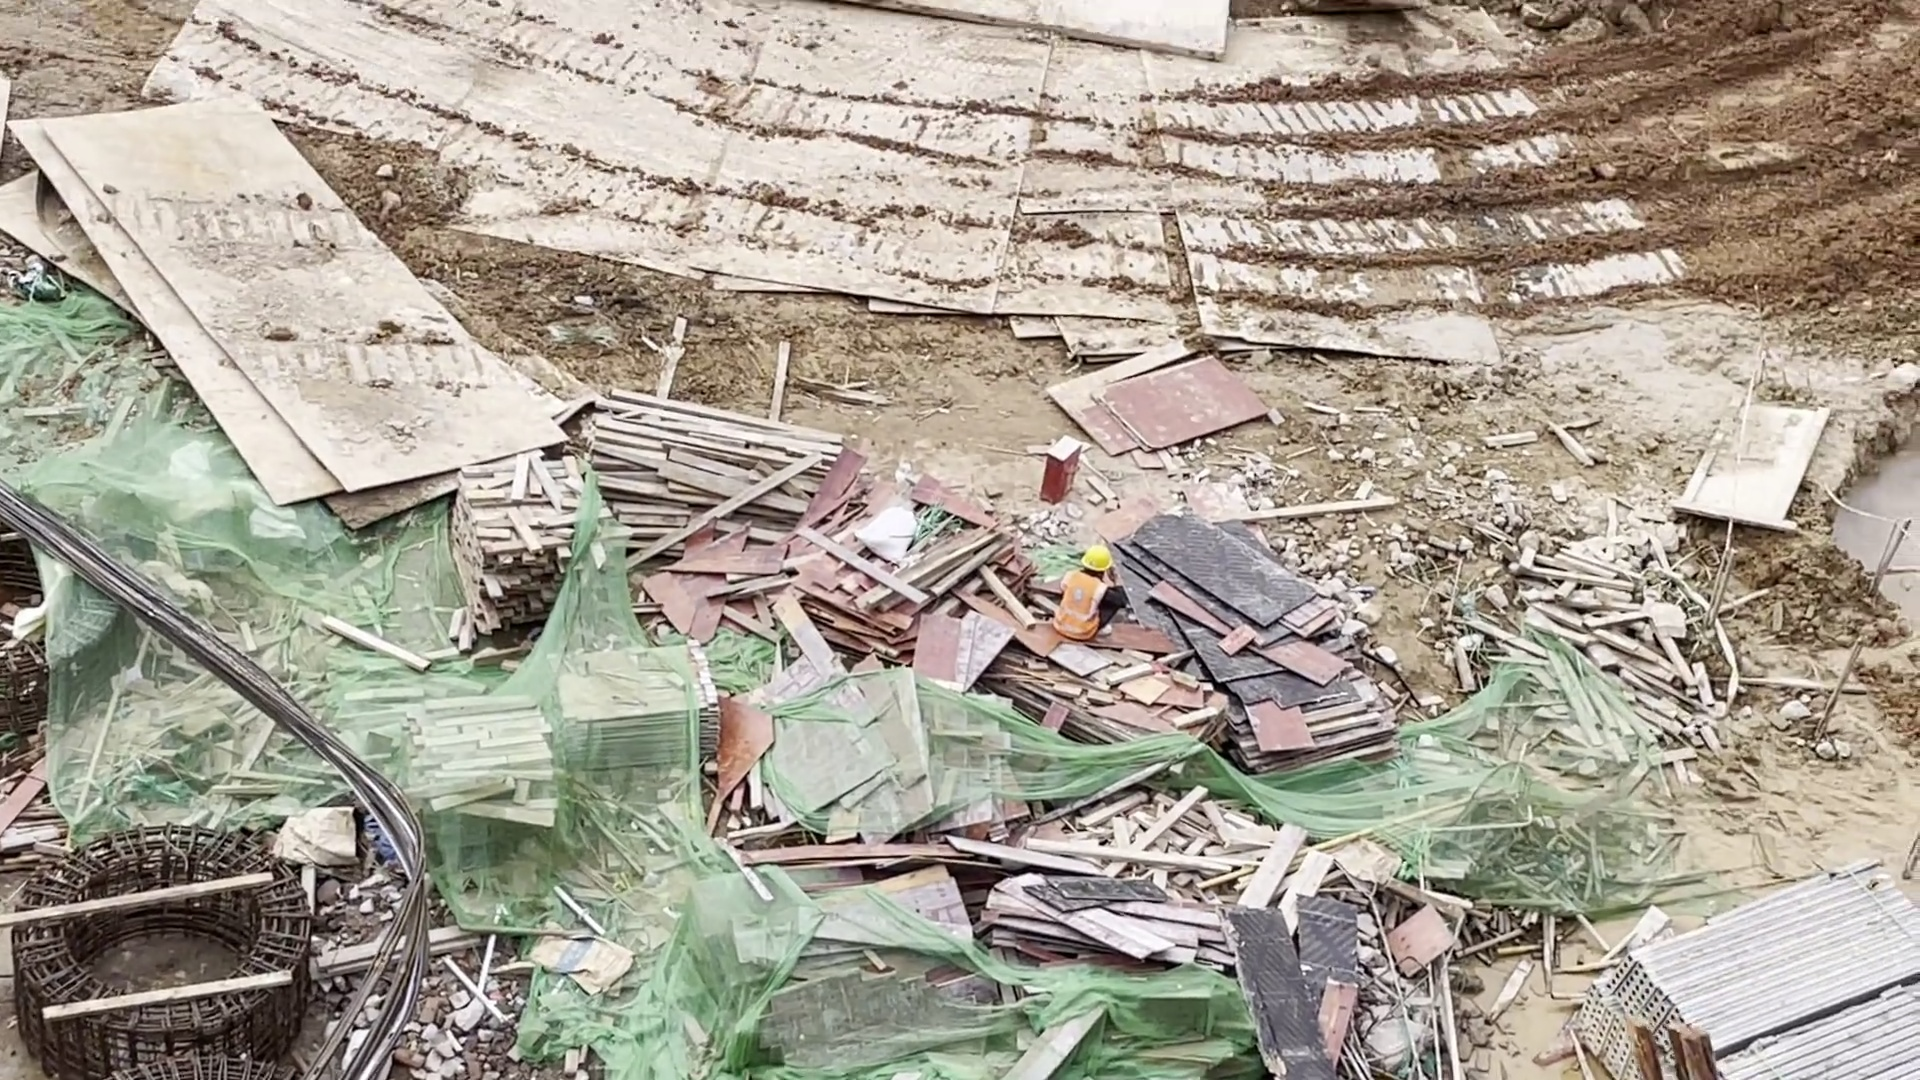helmet: (1081, 546, 1111, 571)
person: (1058, 546, 1123, 643)
vest: (1059, 569, 1108, 643)
wood: (454, 386, 832, 644)
